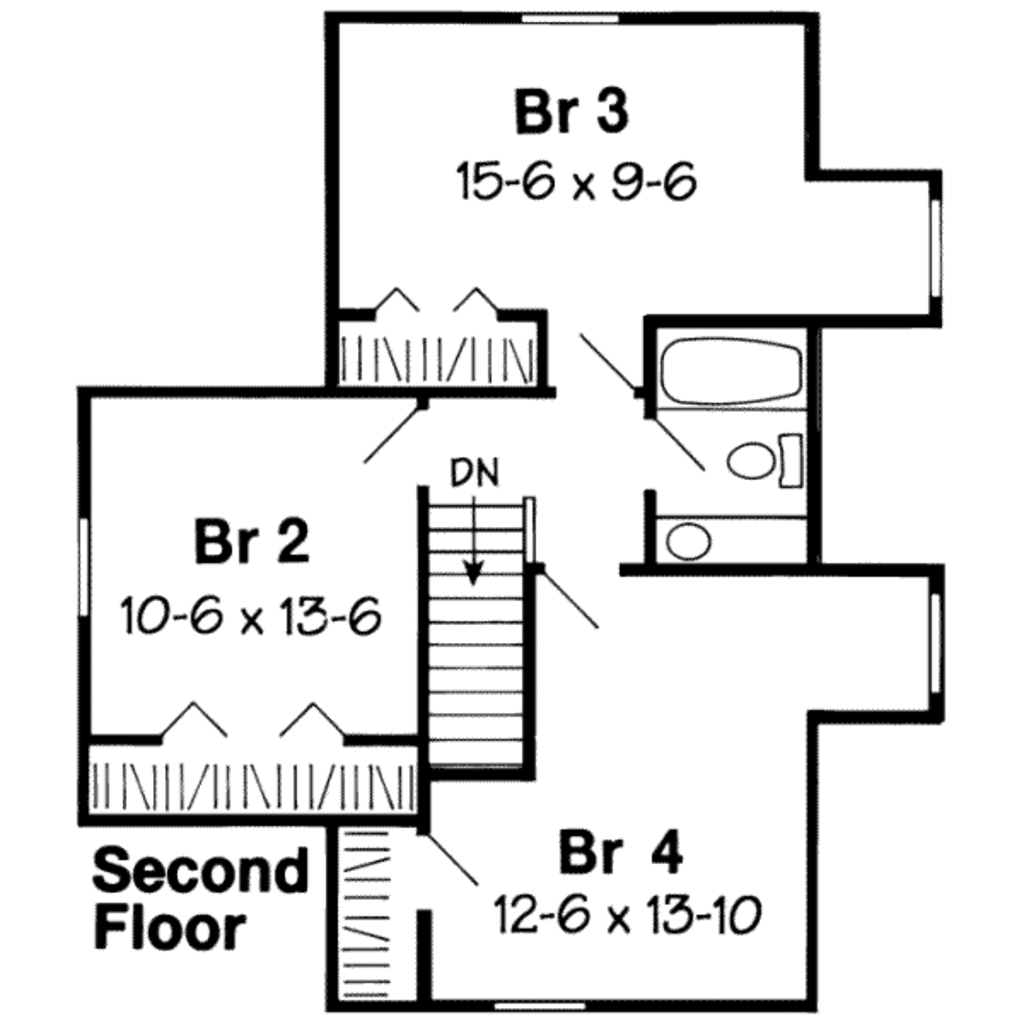large_sink: (722, 425, 805, 494)
small_sink: (651, 511, 728, 567)
stairs: (413, 449, 539, 770)
tub: (656, 325, 808, 413)
windows: (923, 588, 950, 703), (72, 512, 98, 621), (515, 6, 628, 30), (924, 193, 946, 306), (484, 993, 589, 1011)
